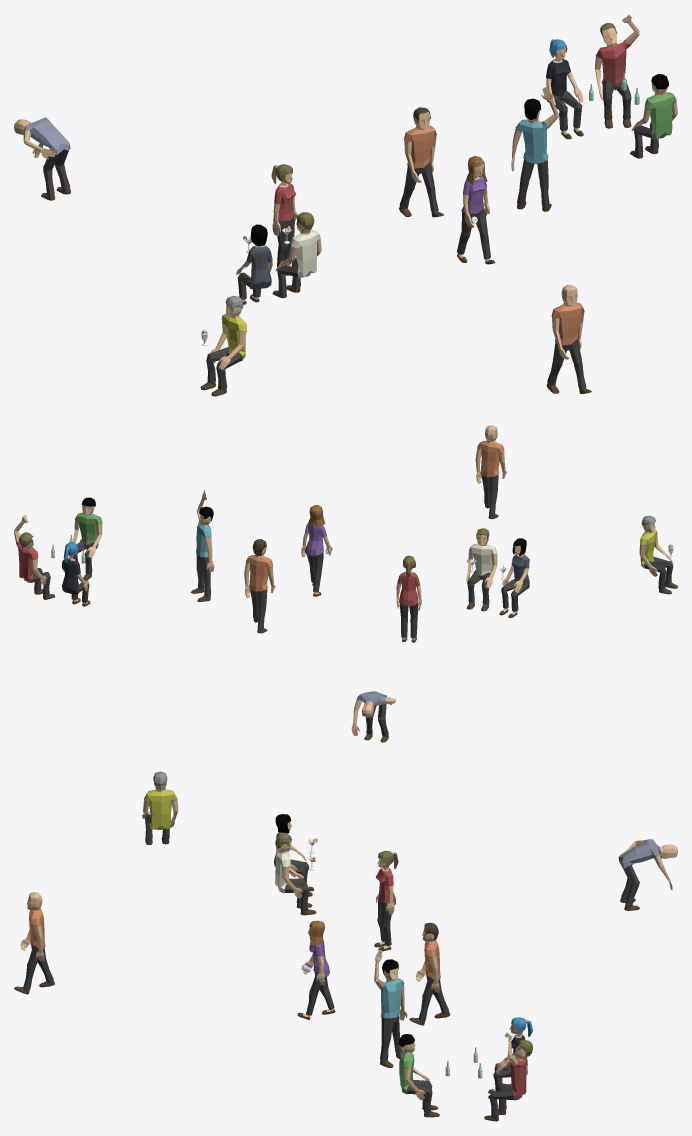
File: sample_characters.glb
The picture shows the model from 3 angles, top to bottom: view 1: azimuth 30°, elevation 25°; view 2: azimuth 150°, elevation 25°; view 3: azimuth 270°, elevation 25°; orthographic projection. The views are drawn at different scales.
Visible parts, largest first — view 1: Male_Hairstyle_3.002, Male_Hairstyle_2.003, Male_Hairstyle_1.002, Male_Walking.002, Male_PickingUp.001, Male_Sitting.001, Female_Hairstyle_2.002, Male_Hairstyle_2.004, Male_Sitting.003, Female_Sitting.001, Female_Standing.005, Female_Hairstyle_1.002; view 2: Male_Hairstyle_1.002, Male_Walking.002, Male_Hairstyle_2.004, Male_Hairstyle_3.002, Female_Standing.005, Female_Hairstyle_2.002, Male_Sitting.001, Male_Hairstyle_2.003, Male_Sitting.003, Female_Hairstyle_1.002, Male_PickingUp.001, Female_Sitting.001; view 3: Male_Hairstyle_3.002, Male_PickingUp.001, Male_Sitting.001, Male_Hairstyle_1.002, Male_Walking.002, Male_Hairstyle_2.003, Female_Hairstyle_2.002, Female_Standing.005, Male_Hairstyle_2.004, Male_Sitting.003, Female_Sitting.001, Female_Hairstyle_1.002.
Part boxes in pixels (x1=…): Male_Hairstyle_3.002: x1=511, y1=87, x2=559, y2=211; Male_Hairstyle_2.003: x1=595, y1=14, x2=639, y2=128; Male_Hairstyle_1.002: x1=399, y1=107, x2=443, y2=217; Male_Walking.002: x1=546, y1=285, x2=591, y2=393; Male_PickingUp.001: x1=14, y1=117, x2=70, y2=200; Male_Sitting.001: x1=200, y1=295, x2=246, y2=396; Female_Hairstyle_2.002: x1=457, y1=156, x2=495, y2=264; Male_Hairstyle_2.004: x1=272, y1=212, x2=321, y2=298; Male_Sitting.003: x1=630, y1=74, x2=677, y2=158; Female_Sitting.001: x1=546, y1=39, x2=583, y2=139; Female_Standing.005: x1=271, y1=164, x2=297, y2=275; Female_Hairstyle_1.002: x1=236, y1=224, x2=272, y2=304; Male_Hairstyle_1.002: x1=244, y1=539, x2=275, y2=633; Male_Walking.002: x1=475, y1=425, x2=506, y2=519; Male_Hairstyle_2.004: x1=466, y1=528, x2=497, y2=611; Male_Hairstyle_3.002: x1=191, y1=490, x2=214, y2=601; Female_Standing.005: x1=396, y1=555, x2=421, y2=642; Female_Hairstyle_2.002: x1=301, y1=505, x2=332, y2=596; Male_Sitting.001: x1=639, y1=515, x2=677, y2=594; Male_Hairstyle_2.003: x1=14, y1=514, x2=55, y2=599; Male_Sitting.003: x1=73, y1=497, x2=102, y2=580; Female_Hairstyle_1.002: x1=499, y1=538, x2=529, y2=617; Male_PickingUp.001: x1=351, y1=691, x2=396, y2=742; Female_Sitting.001: x1=62, y1=542, x2=90, y2=606; Male_Hairstyle_3.002: x1=374, y1=950, x2=407, y2=1067; Male_PickingUp.001: x1=618, y1=839, x2=677, y2=910; Male_Sitting.001: x1=142, y1=771, x2=178, y2=844; Male_Hairstyle_1.002: x1=409, y1=922, x2=450, y2=1025; Male_Walking.002: x1=14, y1=892, x2=54, y2=994; Male_Hairstyle_2.003: x1=484, y1=1032, x2=532, y2=1121; Female_Hairstyle_2.002: x1=297, y1=920, x2=335, y2=1019; Female_Standing.005: x1=374, y1=850, x2=398, y2=951; Male_Hairstyle_2.004: x1=275, y1=833, x2=316, y2=915; Male_Sitting.003: x1=398, y1=1034, x2=439, y2=1117; Female_Sitting.001: x1=488, y1=1017, x2=532, y2=1098; Female_Hairstyle_1.002: x1=274, y1=814, x2=313, y2=896.
Bounding box in the file's own units: 32.08 × 6.16 × 32.34.
